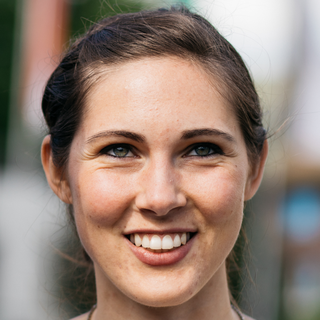eye: (176, 139, 228, 165), (95, 139, 144, 165)
